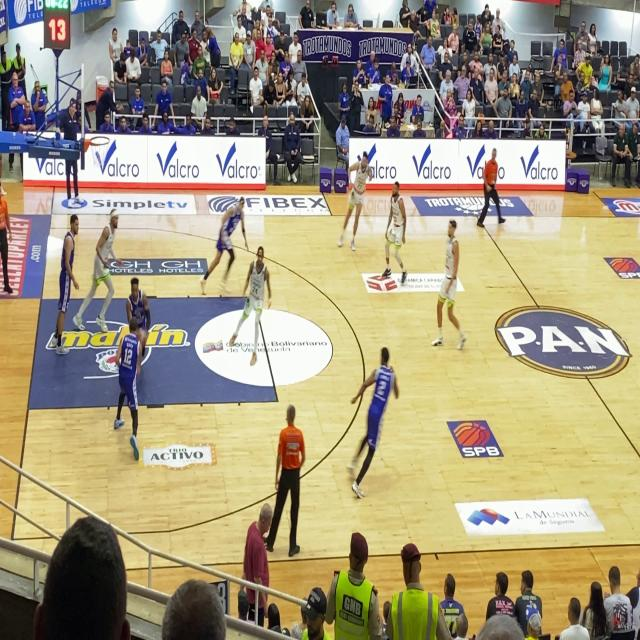referee: (272, 402, 311, 554), (476, 140, 504, 241), (0, 172, 17, 295)
team1: (238, 241, 272, 391), (433, 210, 467, 342), (93, 202, 123, 335), (377, 167, 406, 281), (341, 148, 368, 244)
team2: (354, 332, 401, 492), (114, 316, 152, 452), (44, 200, 78, 342), (210, 188, 240, 298), (128, 260, 156, 336)
ubasket: (86, 131, 111, 167)
